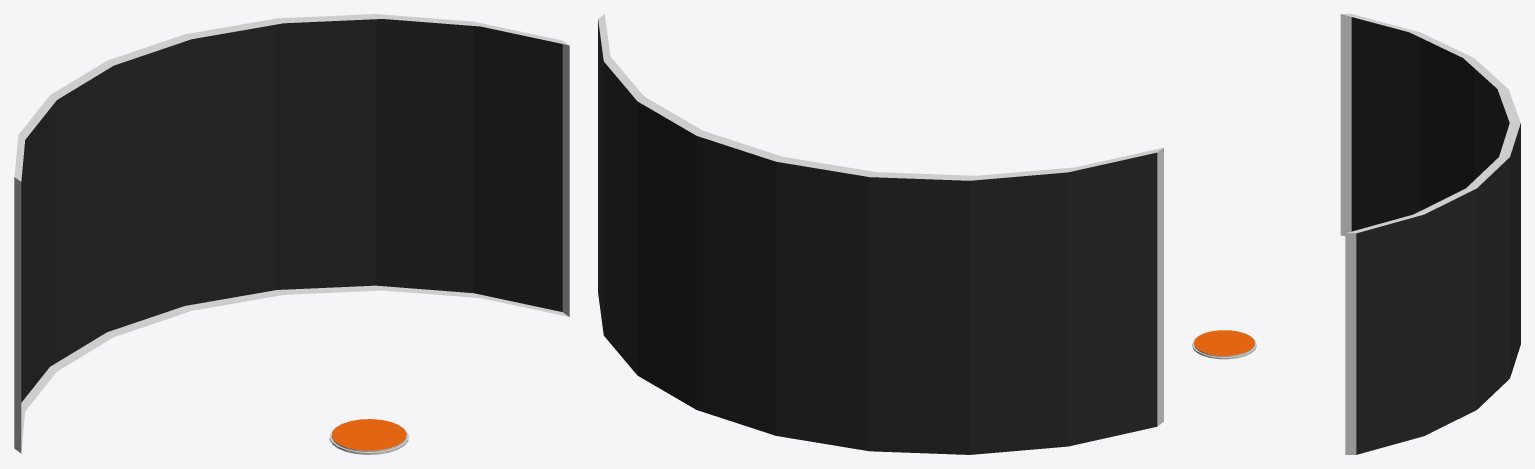
Rendered from 60 - Identikit con interazione.glb.
The picture shows the model from 3 angles, left to right: view 1: azimuth 30°, elevation 25°; view 2: azimuth 150°, elevation 25°; view 3: azimuth 270°, elevation 25°; orthographic projection. The views are drawn at different scales.
Visible parts, largest first — view 1: 60 - identikit con Interazione; view 2: 60 - identikit con Interazione; view 3: 60 - identikit con Interazione.
Part boxes in pixels (x1,y1,x2,y2): 60 - identikit con Interazione: (14,14,569,454); 60 - identikit con Interazione: (598,14,1163,454); 60 - identikit con Interazione: (1192,14,1520,454).
Bounding box in the file's own units: 5.15 × 2.42 × 3.26.
